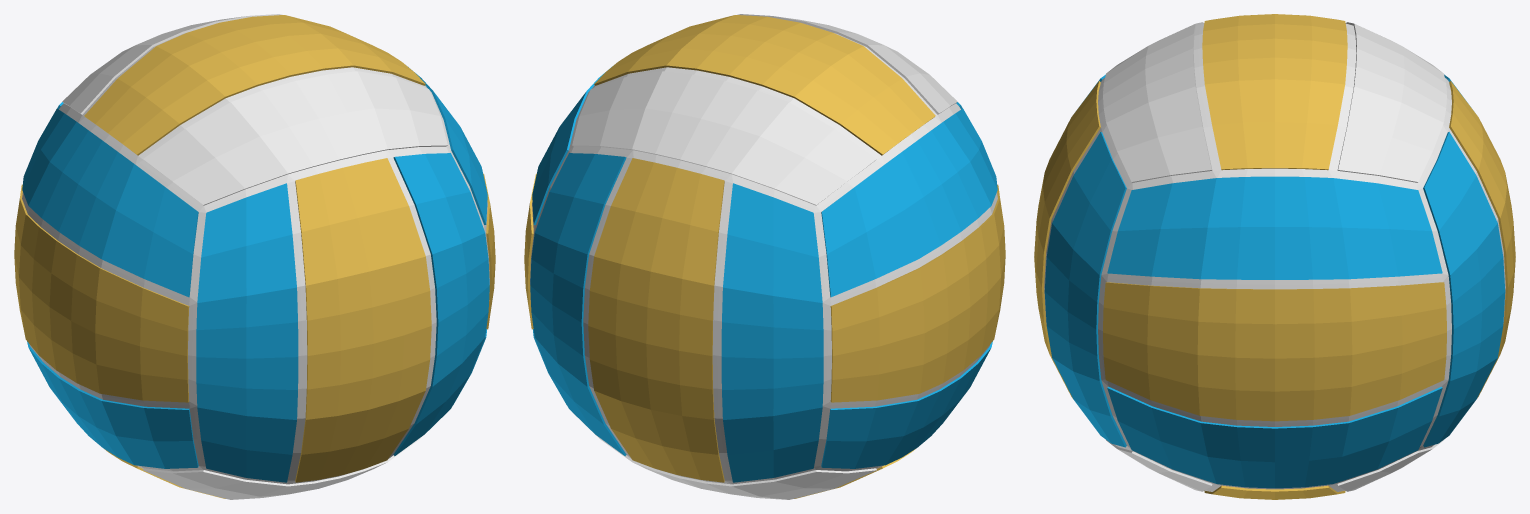
The model's file is VolleyBall.fbx.
3 views of the same model, side by side, from view 1: azimuth 30°, elevation 25°; view 2: azimuth 150°, elevation 25°; view 3: azimuth 270°, elevation 25° (orthographic).
Visible parts, largest first — view 1: Cube; view 2: Cube; view 3: Cube.
Boxes of the visible parts, left/top/right/bottom form: Cube: left=14, top=14, right=495, bottom=499; Cube: left=524, top=14, right=1005, bottom=499; Cube: left=1034, top=14, right=1515, bottom=499.
Bounding box in the file's own units: 254 × 254 × 254.
